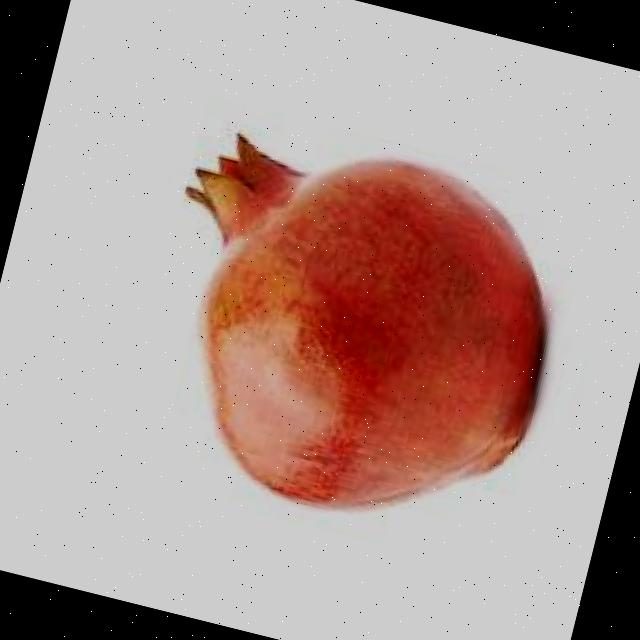Pomegranate: (111, 105, 590, 554)
